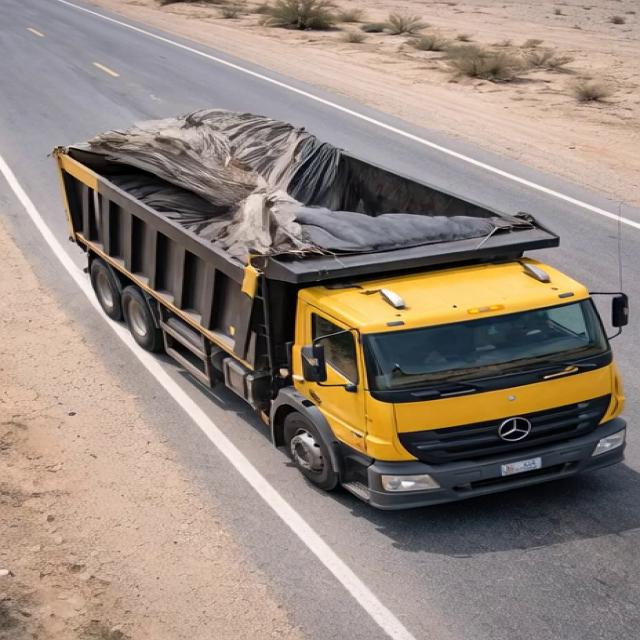trailer: (50, 106, 569, 260)
truck: (31, 62, 638, 510)
